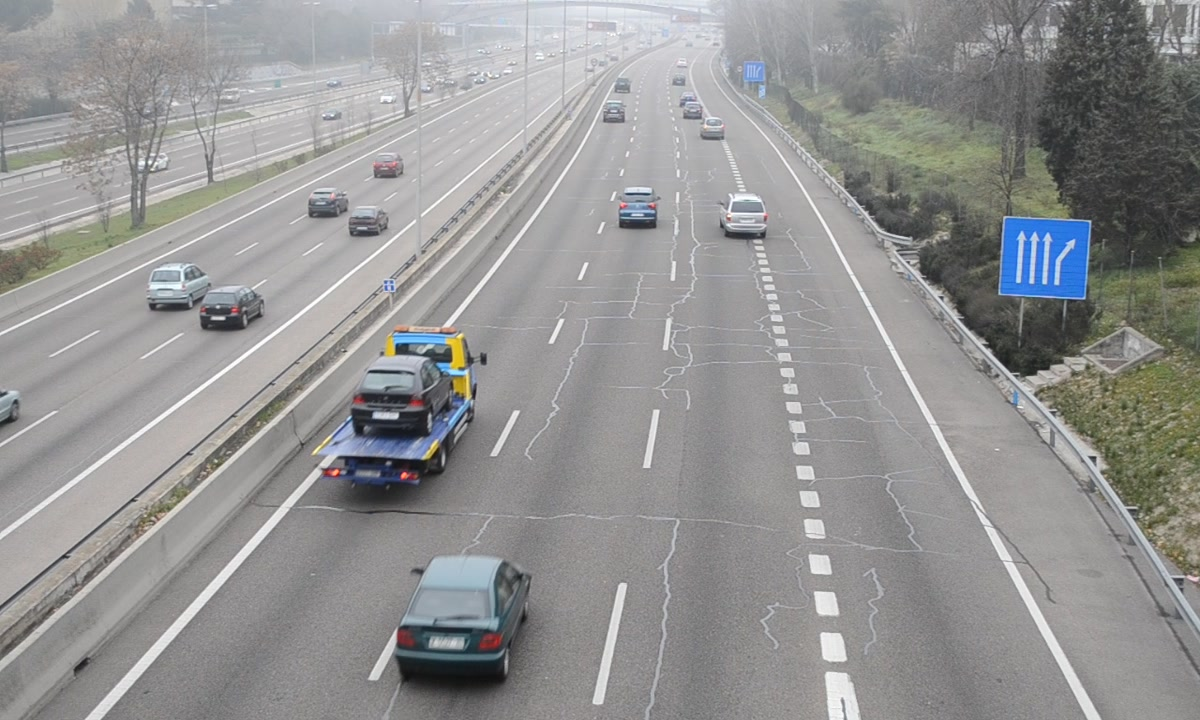car: (395, 556, 529, 673), (722, 193, 769, 236), (618, 186, 659, 227), (700, 114, 726, 142), (603, 101, 625, 124)
small-truck: (315, 327, 478, 484)
